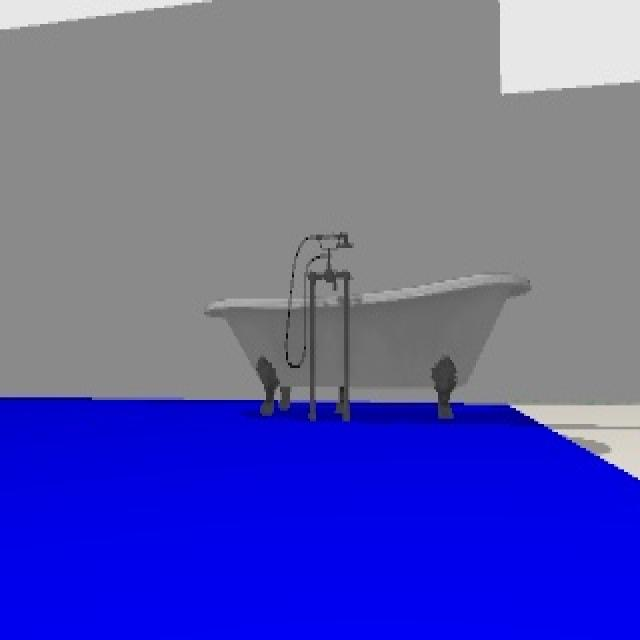bathtub: (206, 232, 534, 421)
